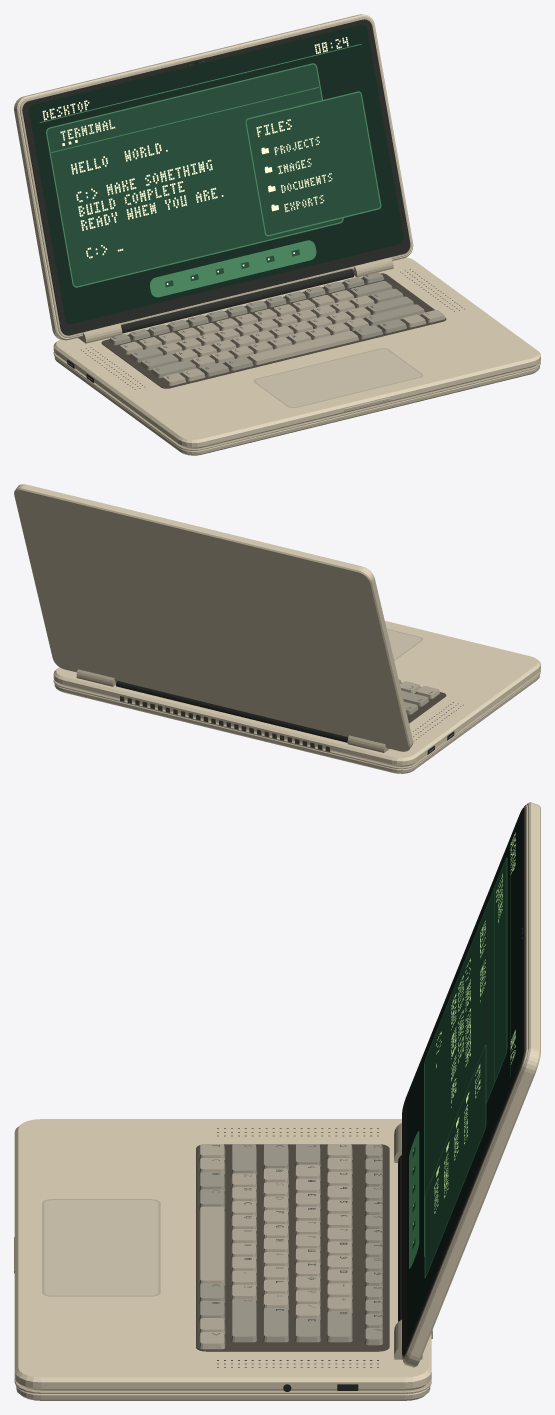
File: retro-laptop.glb
3 views of the same model, one above another, from view 1: azimuth 30°, elevation 25°; view 2: azimuth 150°, elevation 25°; view 3: azimuth 270°, elevation 25° (orthographic). The views are drawn at different scales.
Visible parts, largest first — view 1: Laptop terminal panel, Laptop cream unibody, Laptop widescreen display, Laptop files panel, Laptop thin black bezel, Laptop screen graphics, Laptop glass trackpad, Laptop thin cream lid, Laptop application dock, Laptop lid metal rim, Laptop keyboard recess, Laptop bottom shell (+8 smaller); view 2: Laptop thin cream lid, Laptop cream unibody, Laptop bottom shell, Laptop center hinge, Laptop edge seam, Laptop rear cooling vents, Laptop display hinge, Laptop glass trackpad; view 3: Laptop cream unibody, Laptop terminal panel, Laptop keyboard recess, Laptop glass trackpad, Laptop widescreen display, Laptop thin cream lid, Laptop files panel, Laptop thin black bezel, Laptop bottom shell, Laptop screen graphics, Laptop key SPACE top, Laptop lid metal rim (+11 smaller).
Part boxes in pixels (bbox=[...]): Laptop terminal panel: bbox=[46, 64, 342, 286]; Laptop cream unibody: bbox=[53, 257, 540, 448]; Laptop widescreen display: bbox=[29, 24, 403, 324]; Laptop files panel: bbox=[245, 92, 380, 234]; Laptop thin black bezel: bbox=[22, 19, 410, 335]; Laptop screen graphics: bbox=[39, 37, 361, 287]; Laptop glass trackpad: bbox=[255, 349, 421, 407]; Laptop thin cream lid: bbox=[14, 14, 413, 340]; Laptop application dock: bbox=[150, 240, 316, 297]; Laptop lid metal rim: bbox=[19, 17, 411, 337]; Laptop keyboard recess: bbox=[101, 273, 446, 388]; Laptop bottom shell: bbox=[54, 356, 539, 455]; Laptop thin cream lid: bbox=[14, 484, 413, 751]; Laptop cream unibody: bbox=[53, 621, 540, 766]; Laptop bottom shell: bbox=[54, 674, 539, 773]; Laptop center hinge: bbox=[116, 681, 347, 742]; Laptop edge seam: bbox=[53, 670, 540, 769]; Laptop rear cooling vents: bbox=[120, 696, 330, 751]; Laptop display hinge: bbox=[76, 669, 389, 752]; Laptop glass trackpad: bbox=[387, 629, 421, 659]; Laptop cream unibody: bbox=[14, 1119, 431, 1390]; Laptop terminal panel: bbox=[424, 858, 507, 1196]; Laptop keyboard recess: bbox=[196, 1144, 389, 1351]; Laptop glass trackpad: bbox=[44, 1200, 158, 1295]; Laptop widescreen display: bbox=[407, 816, 521, 1339]; Laptop thin cream lid: bbox=[403, 802, 540, 1367]; Laptop files panel: bbox=[425, 1046, 486, 1278]; Laptop thin black bezel: bbox=[402, 808, 525, 1356]; Laptop bottom shell: bbox=[16, 1386, 430, 1400]; Laptop screen graphics: bbox=[412, 832, 515, 1249]; Laptop key SPACE top: bbox=[200, 1206, 224, 1280]; Laptop lid metal rim: bbox=[402, 804, 527, 1360].
Size of the model in its own units: 3.97 by 2.49 by 3.37.
